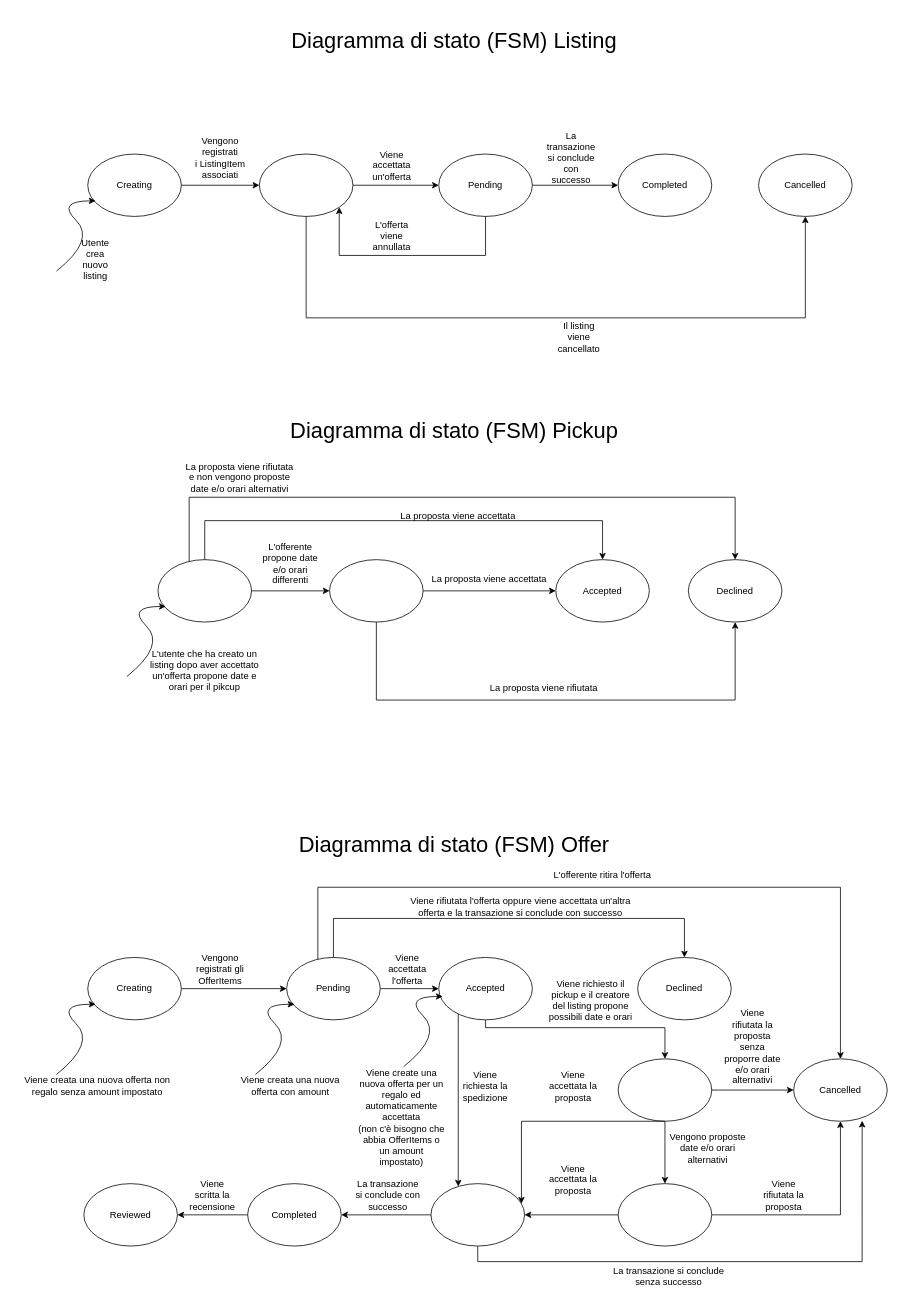
Image size: 901x1301. Some labels were removed from this diagram. The box of each missing label's shape, as (x1, y1, x2, y2) in pixels:
Active: (259, 153, 353, 216)
Confirmed: (430, 1183, 525, 1246)
Pickuprescheduling: (617, 1183, 712, 1246)
Pickupscheduling: (617, 1058, 712, 1121)
Rescheduling: (329, 559, 423, 622)
Scheduling: (157, 559, 252, 622)
